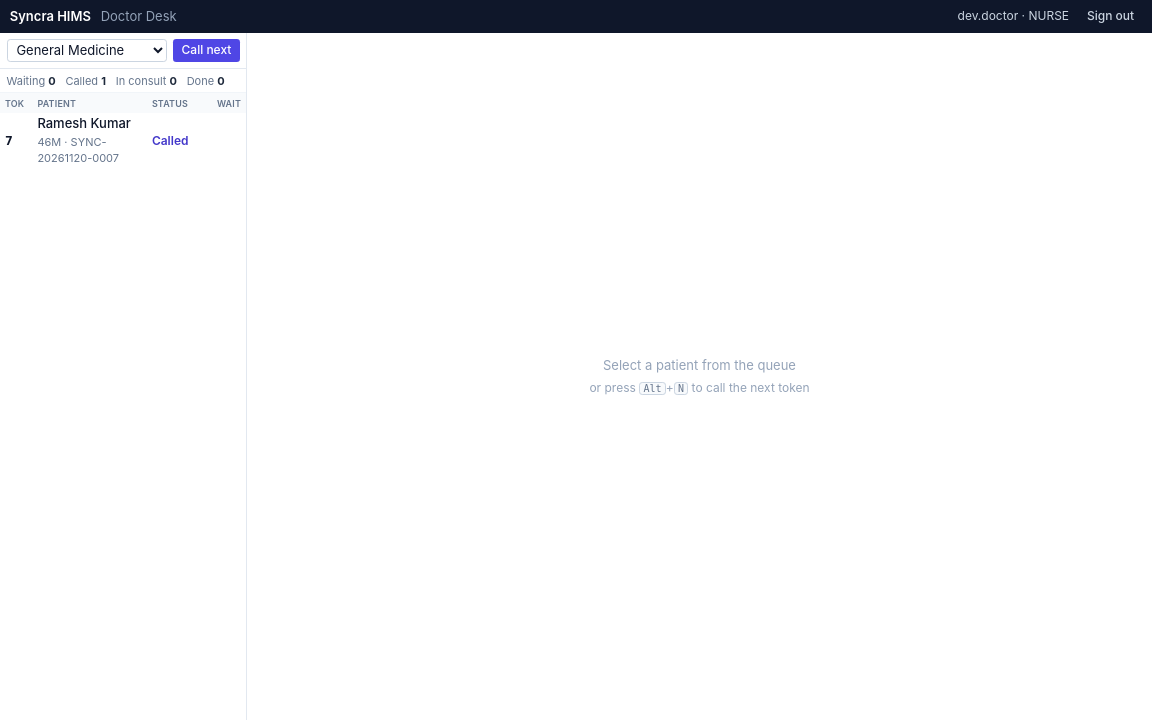
Test: Doctor Desk › is read-only for nurses (no dictation or signing)
This screenshot has width=1152, height=720.
Click the text "Ramesh Kumar".
click(84, 124)  # box [37, 114, 131, 134]
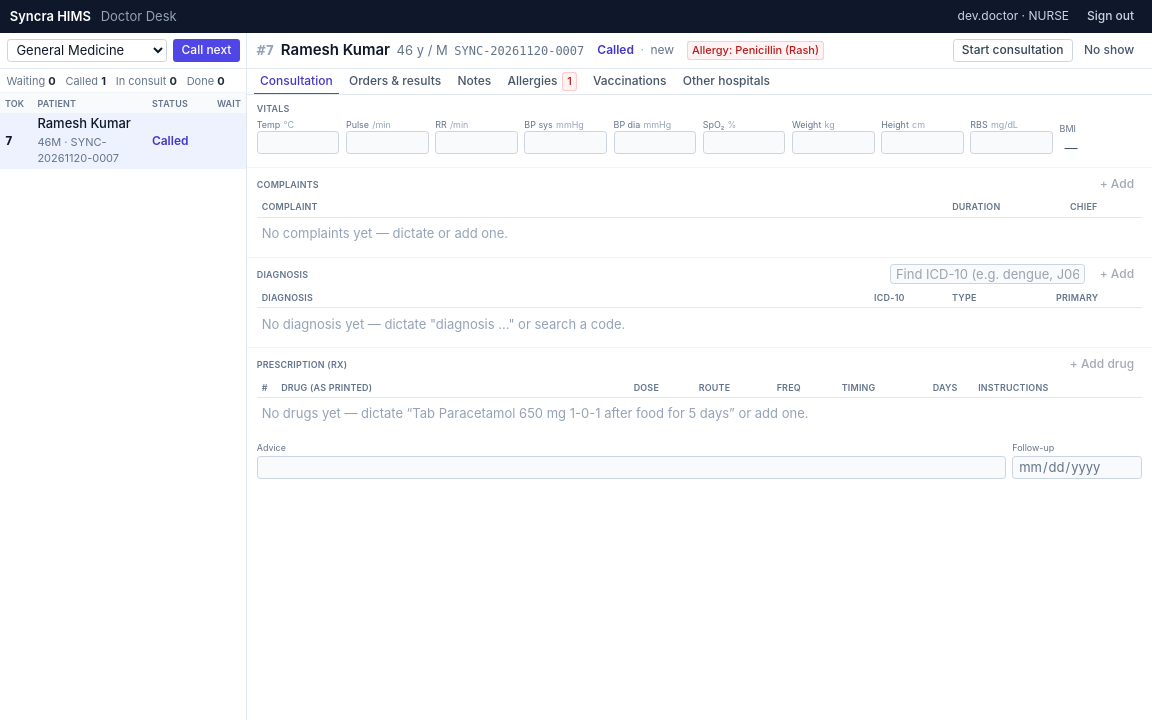
Check: the text "Allergy: Penicillin (Rash)" is shown, box [687, 41, 824, 60]
